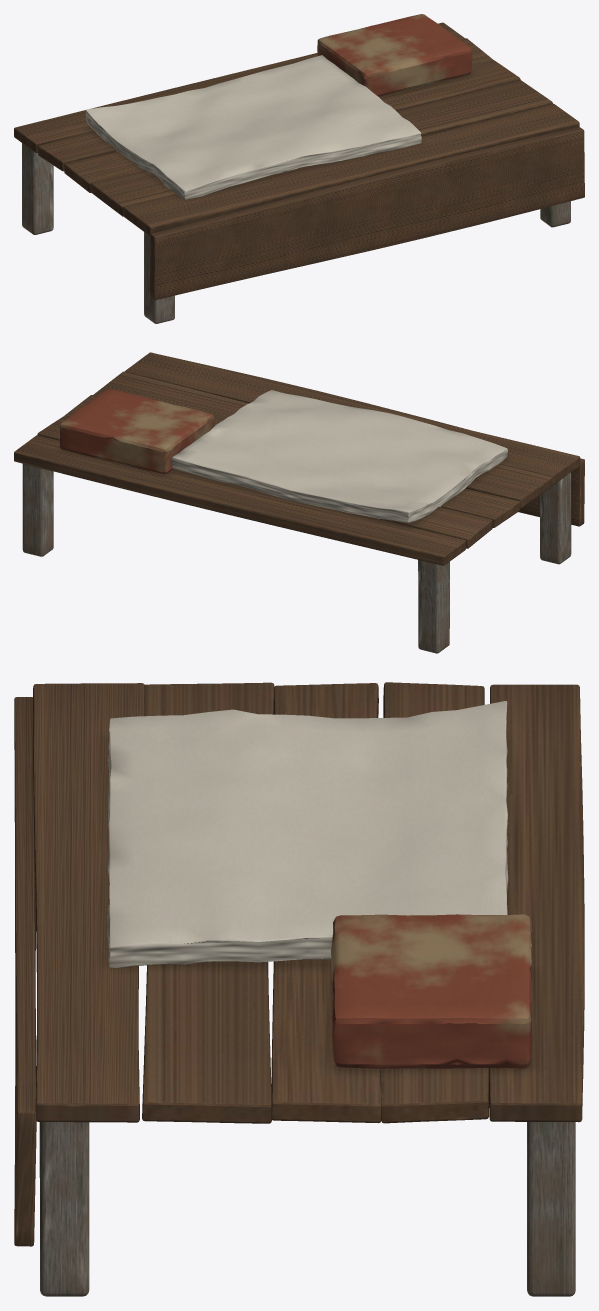
The model's file is bench_2m.glb.
The picture shows the model from 3 angles, top to bottom: view 1: azimuth 30°, elevation 25°; view 2: azimuth 150°, elevation 25°; view 3: azimuth 270°, elevation 25°; orthographic projection. The views are drawn at different scales.
Parts seen in each view (by area): view 1: bench_2m; view 2: bench_2m; view 3: bench_2m.
Boxes of the visible parts, <box> form: bench_2m: <box>14,14,584,323</box>; bench_2m: <box>14,352,584,653</box>; bench_2m: <box>14,682,584,1296</box>.
Size of the model in its own units: 2 by 0.5731 by 1.15.
Materials: 1 (1 with a texture image).
